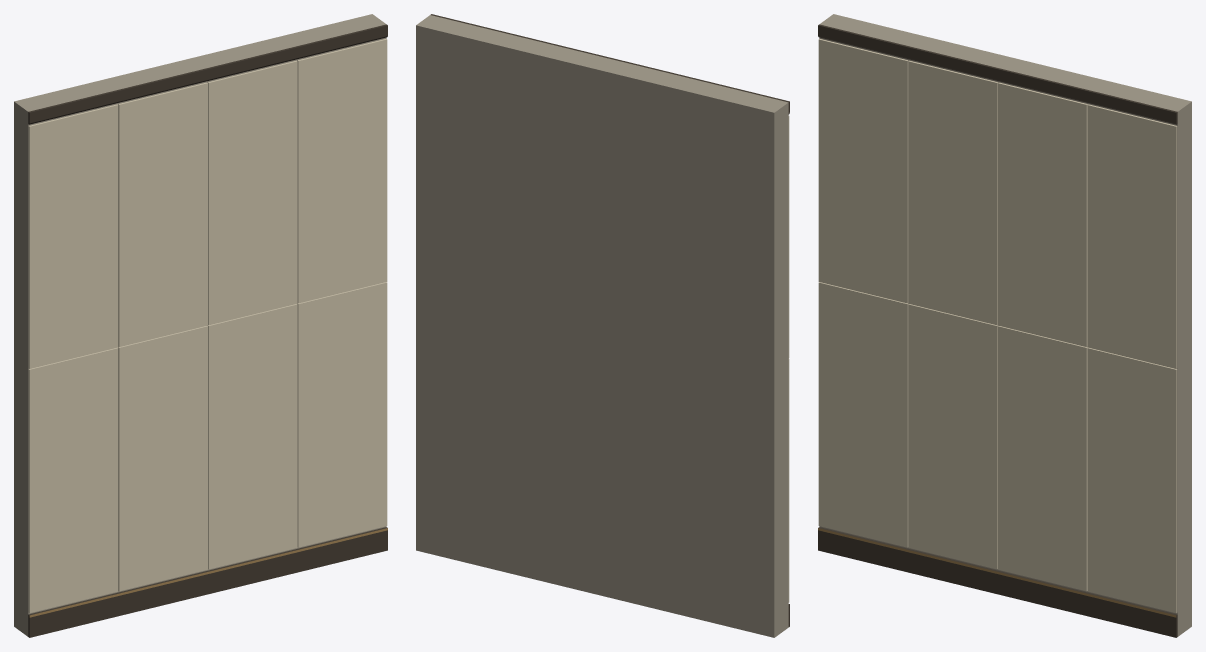
File: mall-wall-module-2m-lod1.glb
3 renders of one model, left to right at view 1: azimuth 30°, elevation 25°; view 2: azimuth 150°, elevation 25°; view 3: azimuth 330°, elevation 25°, orthographic.
Visible parts, largest first — view 1: Eight limestone panels LOD1, Continuous backing LOD1, Bronze trims LOD1; view 2: Continuous backing LOD1, Eight limestone panels LOD1, Bronze trims LOD1; view 3: Eight limestone panels LOD1, Continuous backing LOD1, Bronze trims LOD1.
Part boxes in pixels (x1,y1,x2,y2): Eight limestone panels LOD1: (28,39,387,613); Continuous backing LOD1: (14,14,386,636); Bronze trims LOD1: (28,24,387,637); Continuous backing LOD1: (416,15,788,637); Eight limestone panels LOD1: (788,116,789,602); Bronze trims LOD1: (430,14,789,626); Eight limestone panels LOD1: (818,39,1177,613); Continuous backing LOD1: (819,14,1191,636); Bronze trims LOD1: (818,24,1177,637).
Size of the model in its own units: 2 by 2.8 by 0.15.
